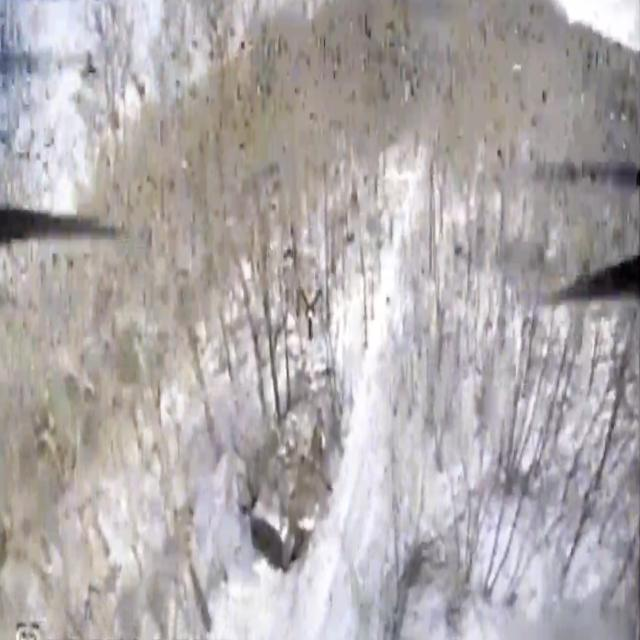vehicle: (240, 361, 342, 572)
